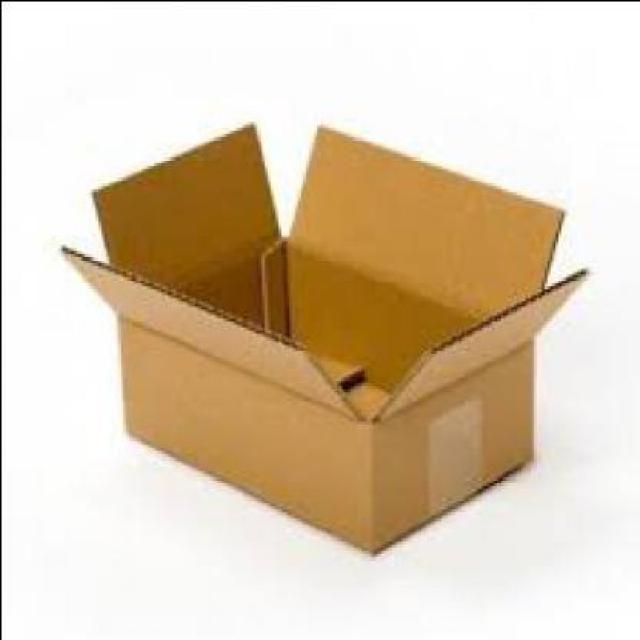CARDBOARD: (64, 118, 590, 552)
